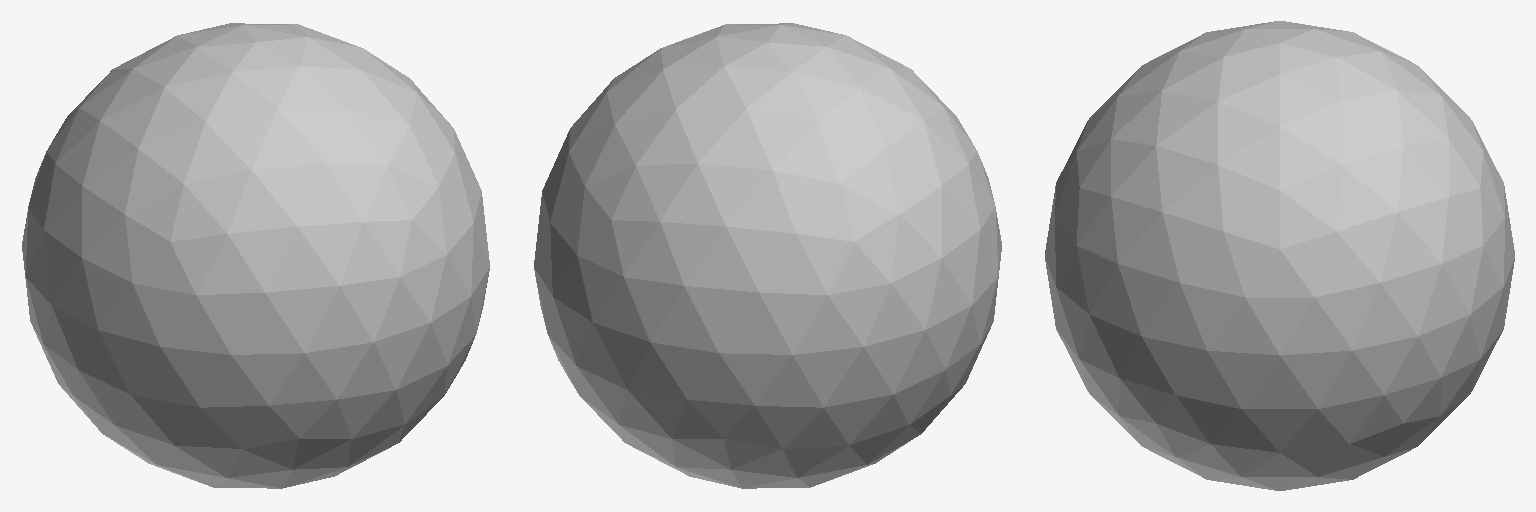
Rendered from Player_003.obj.
The picture shows the model from 3 angles: view 1: azimuth 30°, elevation 25°; view 2: azimuth 150°, elevation 25°; view 3: azimuth 270°, elevation 25°; orthographic projection.
Visible parts, largest first — view 1: Player.003_Icosphere.004; view 2: Player.003_Icosphere.004; view 3: Player.003_Icosphere.004.
Part boxes in pixels (bbox=[...]): Player.003_Icosphere.004: bbox=[22, 23, 489, 488]; Player.003_Icosphere.004: bbox=[534, 23, 1001, 488]; Player.003_Icosphere.004: bbox=[1045, 21, 1514, 490].
Size of the model in its own units: 2 by 2 by 2.